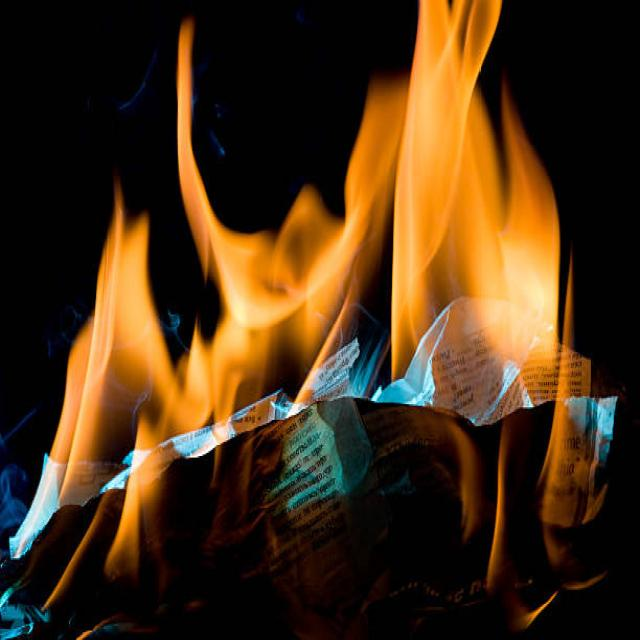fire: (392, 0, 501, 379), (345, 77, 412, 323), (501, 85, 559, 336), (435, 83, 500, 296), (177, 16, 223, 284), (103, 411, 167, 575), (278, 187, 350, 321), (95, 177, 154, 311), (213, 317, 280, 424), (48, 314, 94, 462), (279, 320, 353, 404), (133, 310, 176, 448), (96, 311, 133, 458), (485, 416, 515, 589), (221, 229, 275, 311), (178, 314, 211, 434), (515, 587, 559, 633)
